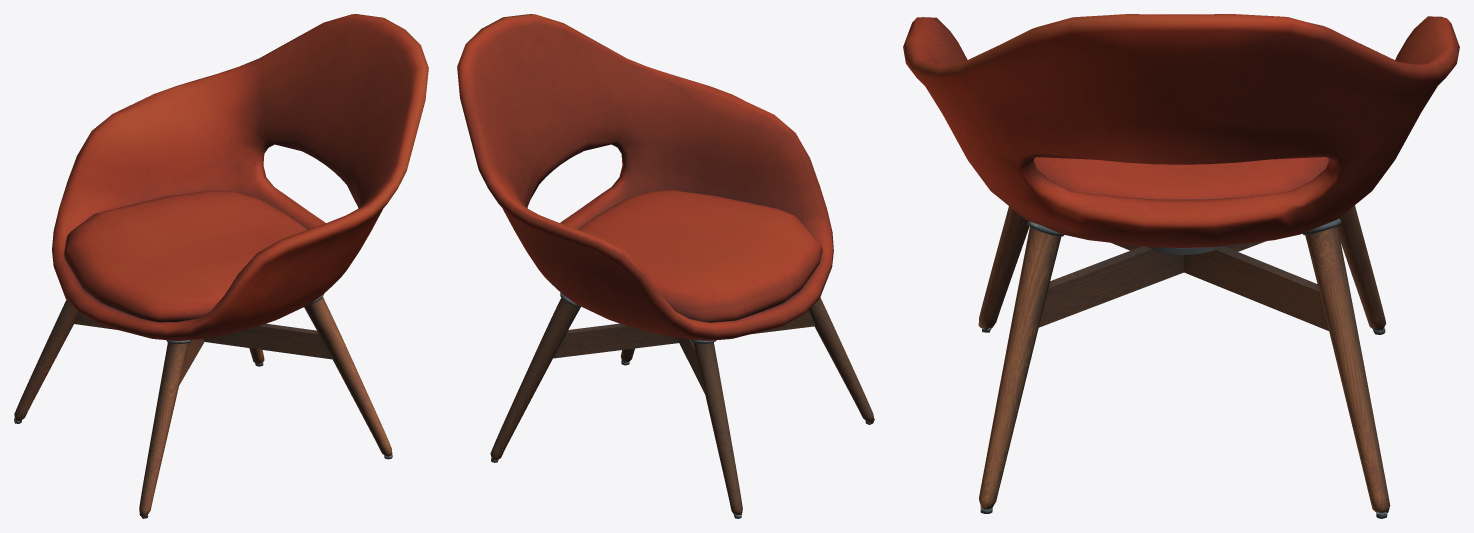
The model's file is chair_red.glb.
3 renders of one model, left to right at view 1: azimuth 30°, elevation 25°; view 2: azimuth 150°, elevation 25°; view 3: azimuth 270°, elevation 25°, orthographic. The views are drawn at different scales.
Parts seen in each view (by area): view 1: Chair; view 2: Chair; view 3: Chair.
Boxes of the visible parts, x1,y1,x2,y2 form: Chair: (14,14,428,518); Chair: (457,14,874,518); Chair: (903,14,1459,518).
Size of the model in its own units: 0.6628 by 0.7007 by 0.6353.
Materials: 1 (1 with a texture image).
